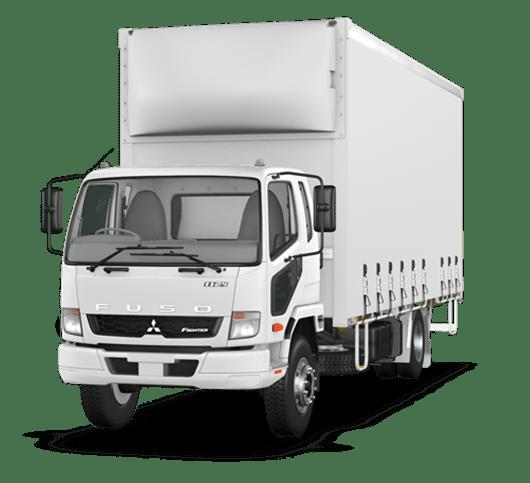Truck: (58, 18, 467, 436)
